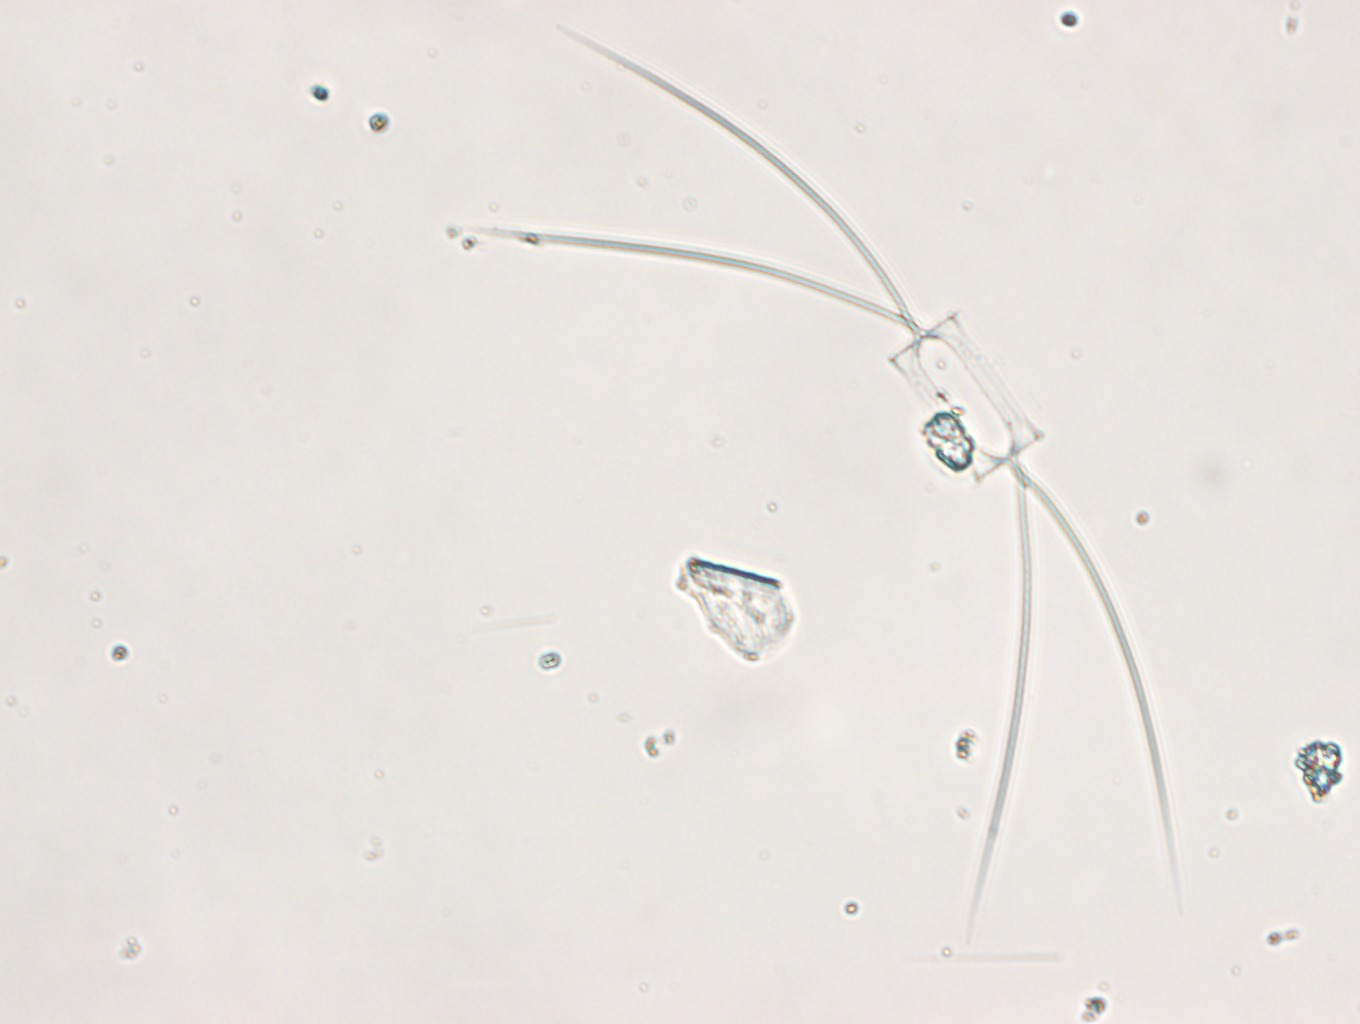chaetoceros: (462, 27, 1183, 933)
